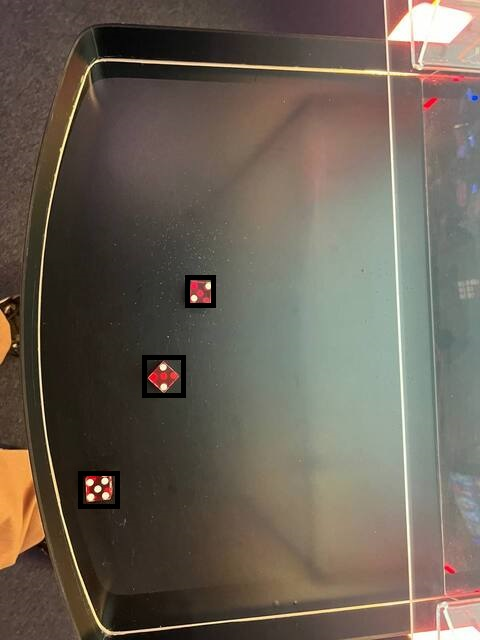five: (80, 473, 117, 506)
two: (144, 357, 183, 395), (187, 277, 213, 305)
